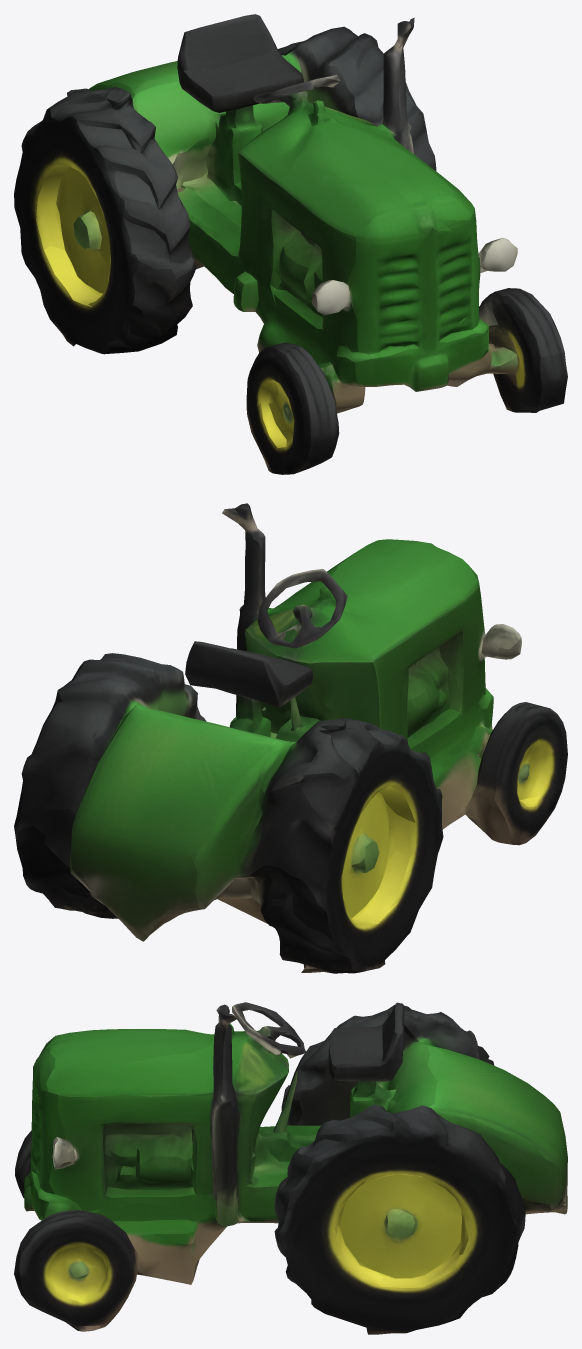
File: ENV_06_TRACTOR.glb
3 renders of one model, top to bottom at view 1: azimuth 30°, elevation 25°; view 2: azimuth 150°, elevation 25°; view 3: azimuth 270°, elevation 25°, orthographic. The views are drawn at different scales.
Parts seen in each view (by area): view 1: world; view 2: world; view 3: world.
Part boxes in pixels (x1,y1,x2,y2): world: [14, 14, 567, 474]; world: [14, 503, 567, 973]; world: [14, 1002, 567, 1334].
Size of the model in its own units: 0.5639 by 0.6076 by 0.9982.
1 material, 1 textured.
